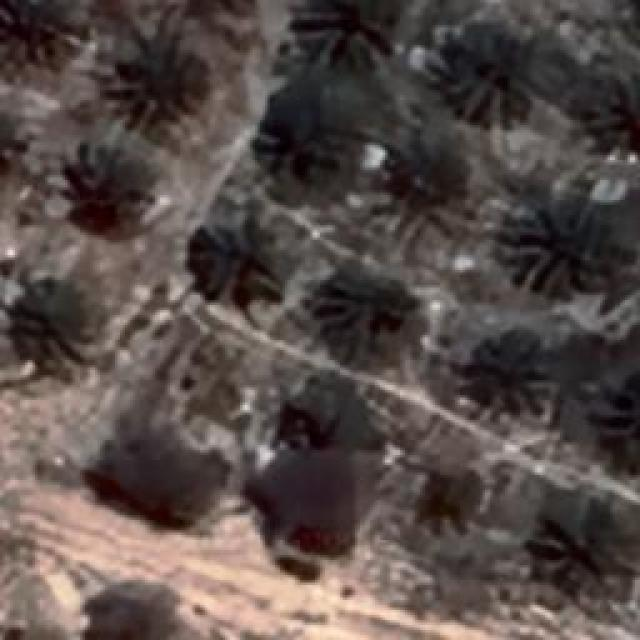PalmTree: (438, 15, 560, 125), (255, 78, 358, 202), (28, 90, 78, 326), (530, 492, 635, 602), (320, 261, 420, 364), (500, 202, 600, 292), (190, 218, 290, 300), (66, 142, 154, 232), (390, 138, 475, 228), (285, 0, 393, 70), (118, 36, 202, 126), (475, 328, 553, 414), (0, 0, 82, 72), (587, 70, 640, 155), (600, 368, 640, 462), (0, 96, 15, 184)
